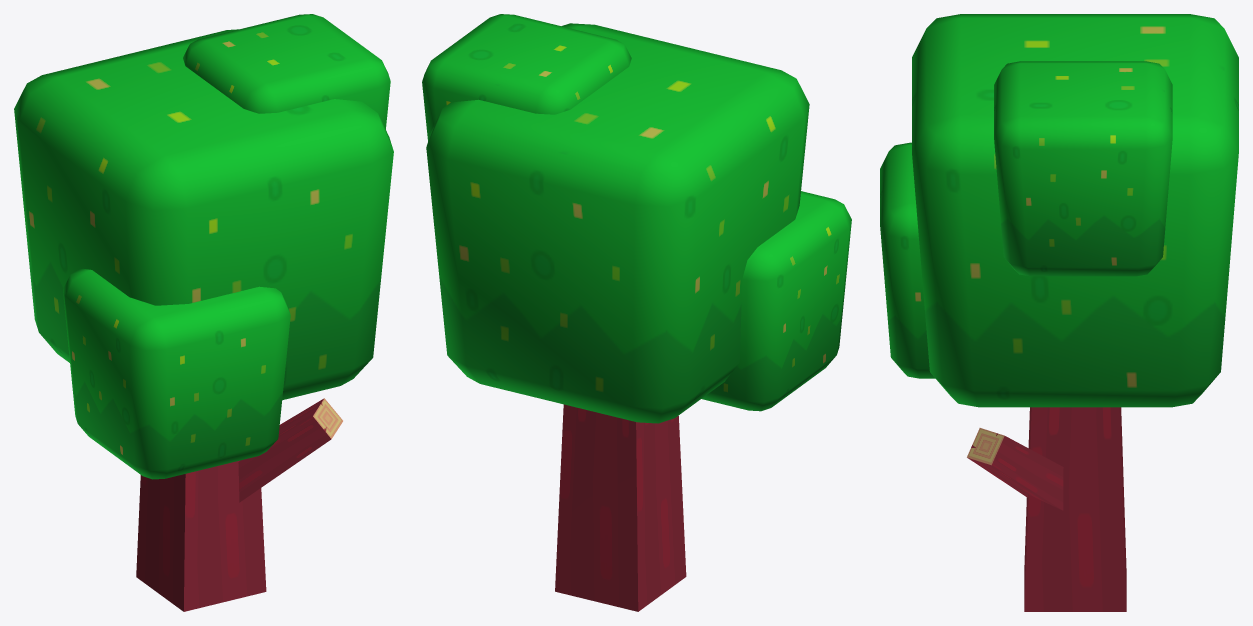
Rendered from BG_003_tree.FBX.
3 views of the same model, side by side, from view 1: azimuth 30°, elevation 25°; view 2: azimuth 150°, elevation 25°; view 3: azimuth 270°, elevation 25° (orthographic). The views are drawn at different scales.
Visible parts, largest first — view 1: tree_01, tree_02, bough_01, tree_03; view 2: tree_01, bough_01, tree_02, tree_03; view 3: tree_01, tree_03, bough_01, tree_02.
Boxes of the visible parts, x1,y1,x2,y2 form: tree_01: (14,29,393,399); tree_02: (63,268,290,479); bough_01: (136,398,342,611); tree_03: (183,14,390,129); tree_01: (426,23,809,423); bough_01: (555,404,686,611); tree_02: (701,191,851,411); tree_03: (422,14,631,140); tree_01: (912,14,1238,407); tree_03: (994,61,1172,276); bough_01: (967,407,1126,611); tree_02: (880,142,934,378).
Size of the model in its own units: 321 by 505 by 300.
